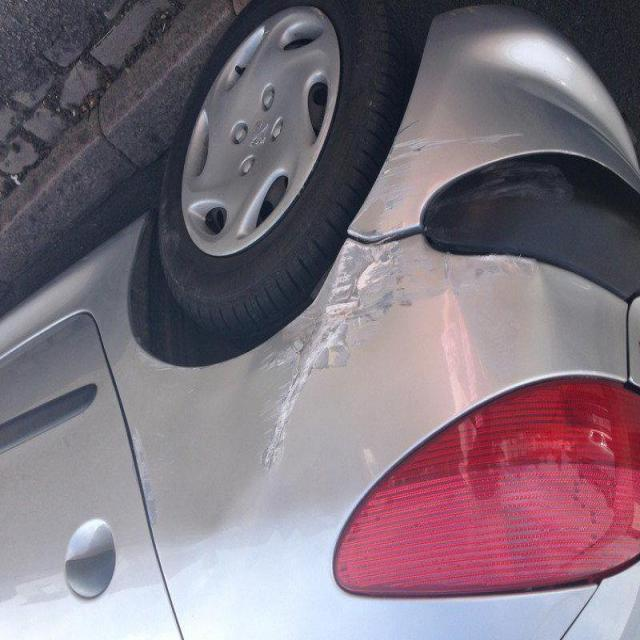scratch: (206, 216, 424, 484)
